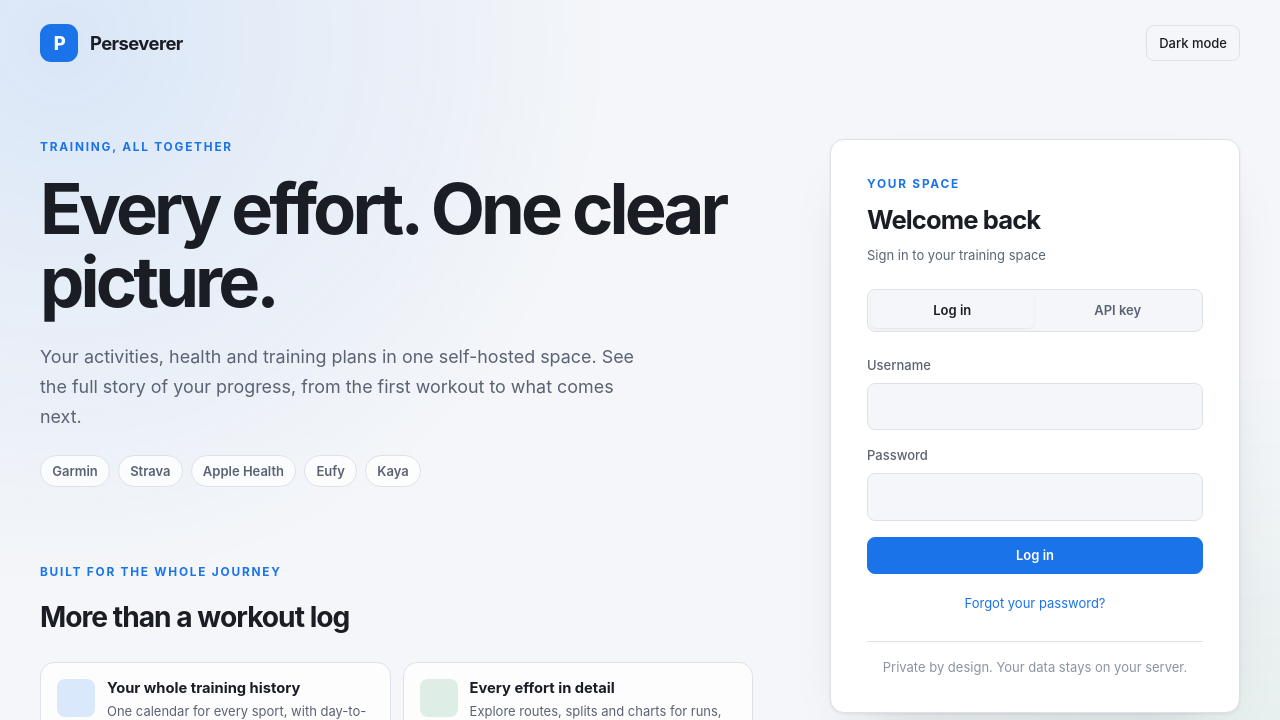
AuthGate forgotten password › explains the alternative when the server can't send email
Click the button "Forgot your password?" at (1035, 603), box left=960, top=590, right=1110, bottom=617
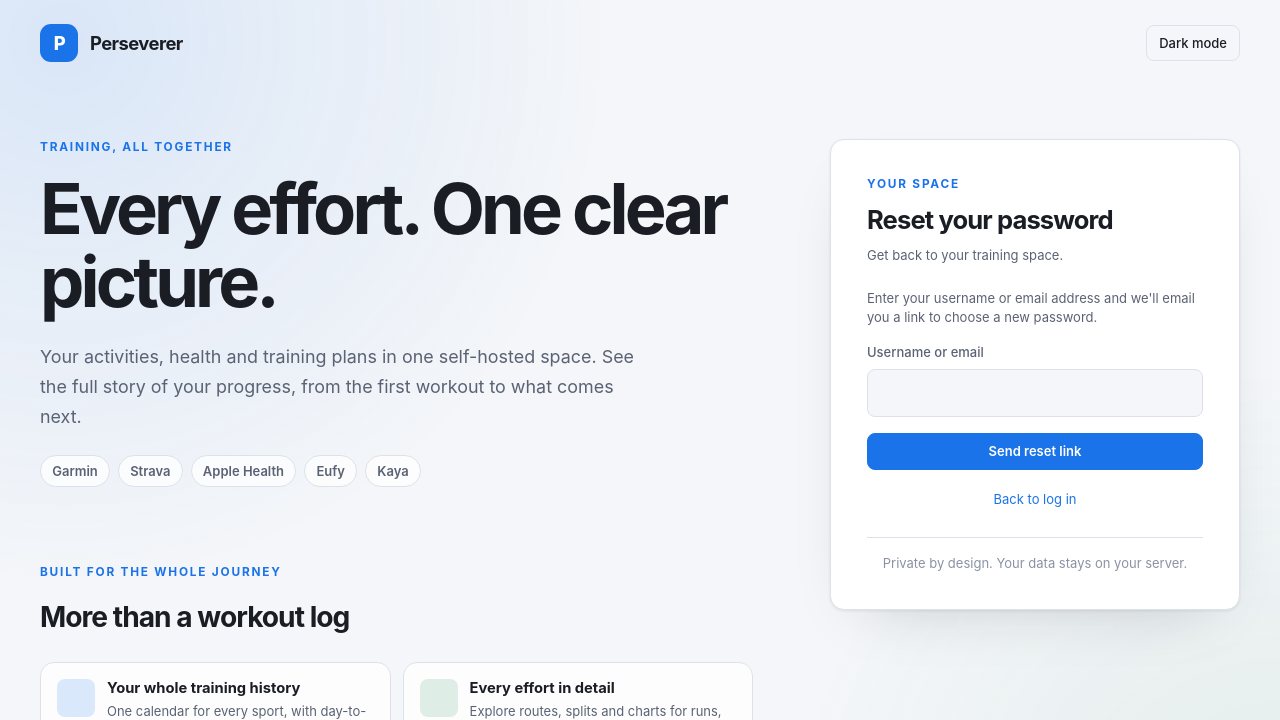
Type "runner" into the field labelled "Username or email" at (1035, 393), box left=867, top=370, right=1203, bottom=417
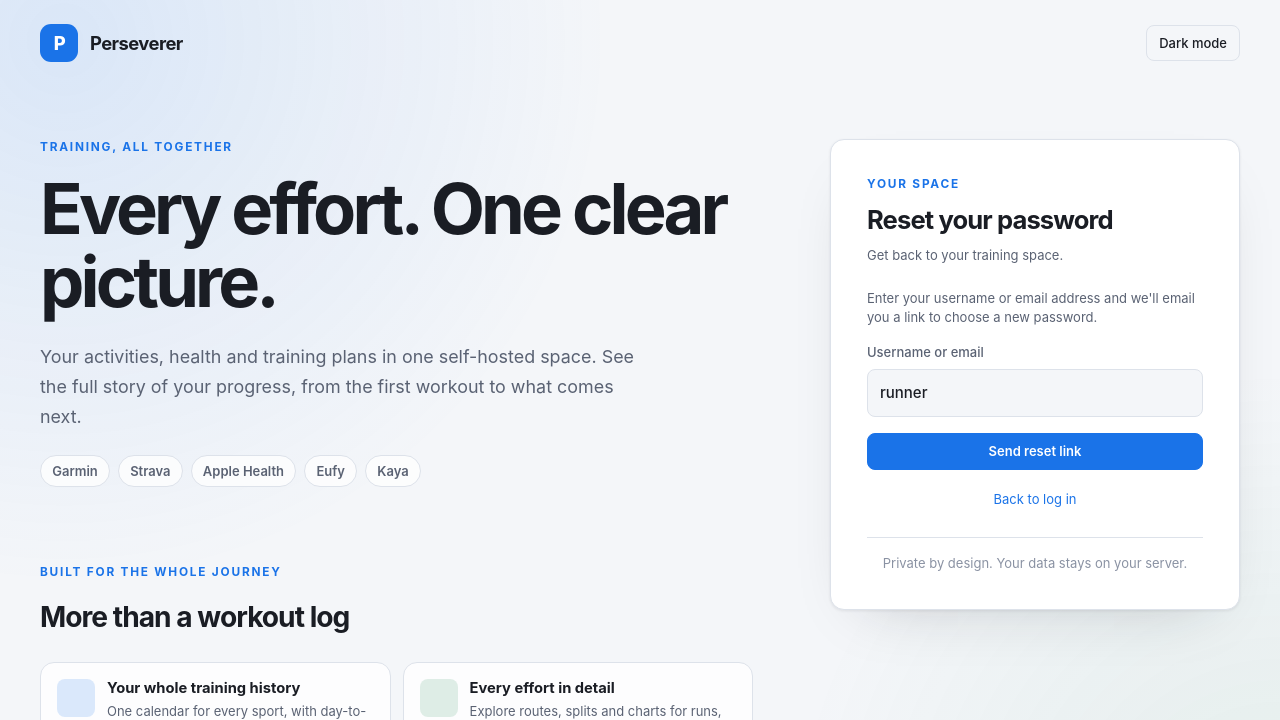
Click the button "Send reset link" at (1035, 452), box left=867, top=433, right=1203, bottom=470
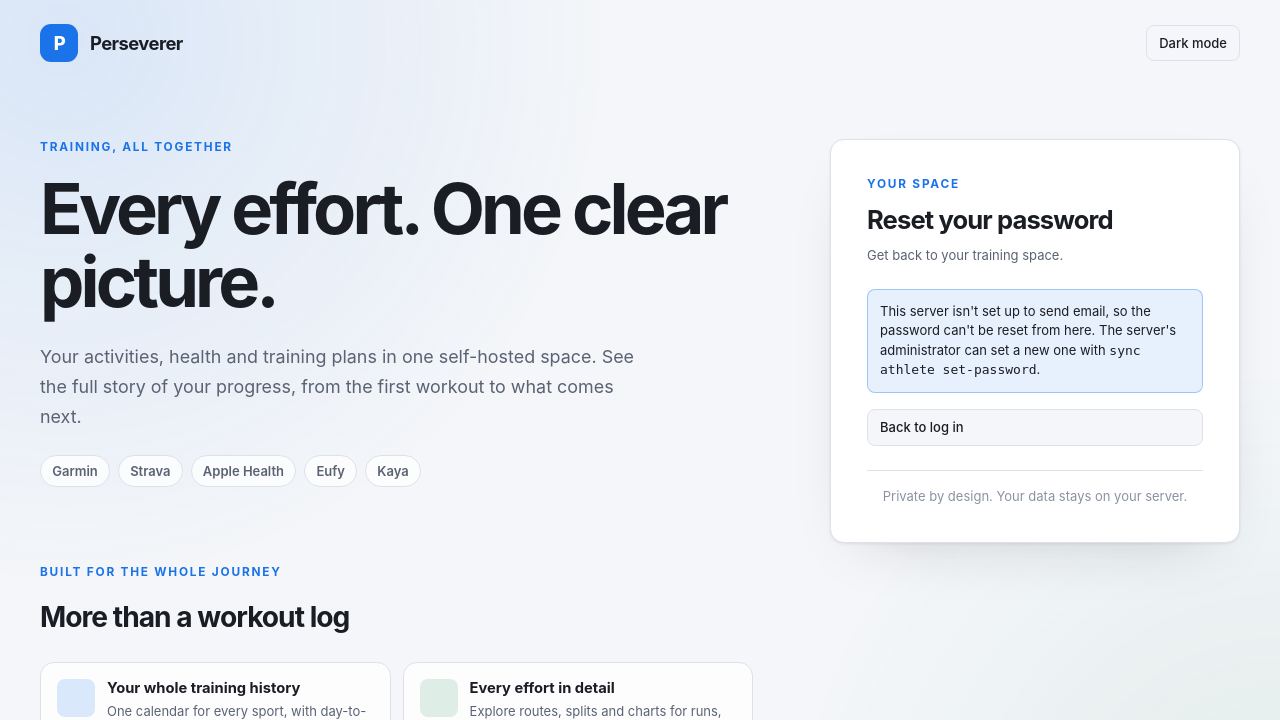
Now the message shows "sync athlete set-password", box left=880, top=343, right=1141, bottom=377
